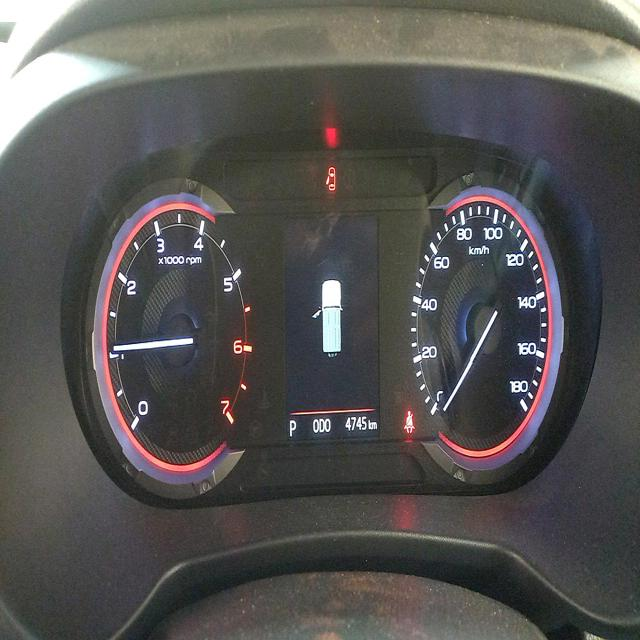odometer: (343, 410, 368, 435)
